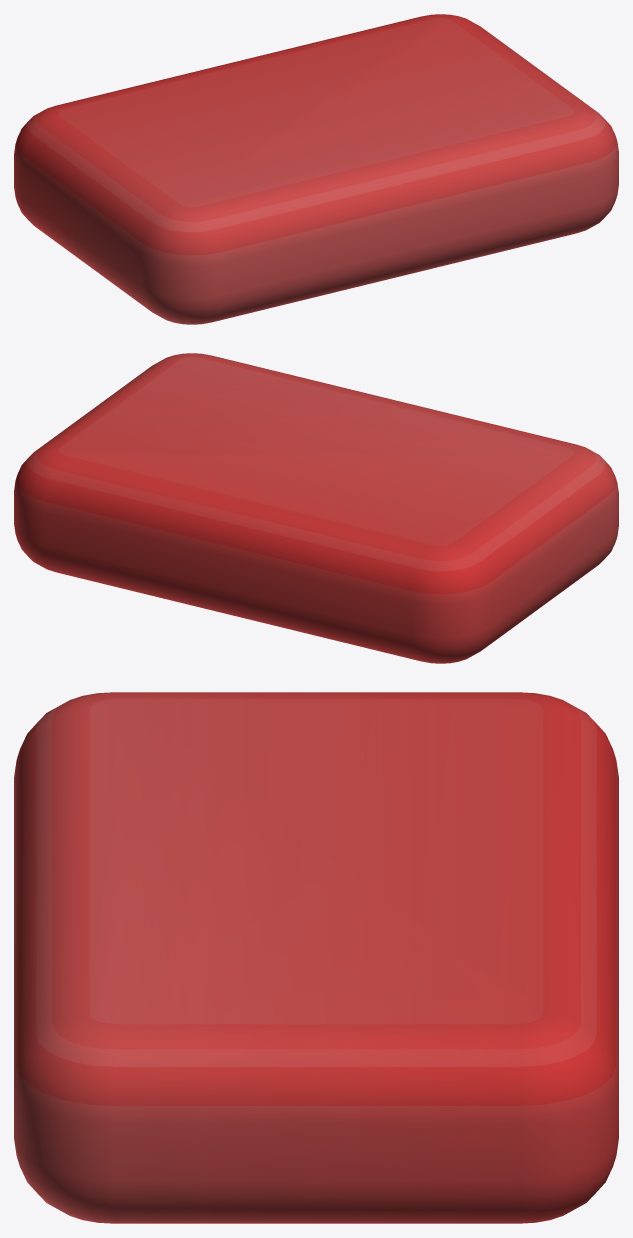
File: soap (1).fbx
3 renders of one model, top to bottom at view 1: azimuth 30°, elevation 25°; view 2: azimuth 150°, elevation 25°; view 3: azimuth 270°, elevation 25°, orthographic. The views are drawn at different scales.
Parts seen in each view (by area): view 1: Plane; view 2: Plane; view 3: Plane.
Part boxes in pixels (x1,y1,x2,y2): Plane: (14,14,618,324); Plane: (14,353,618,663); Plane: (14,692,618,1223).
Bounding box in the file's own units: 304 × 70.34 × 200.
1 material, 1 textured.
